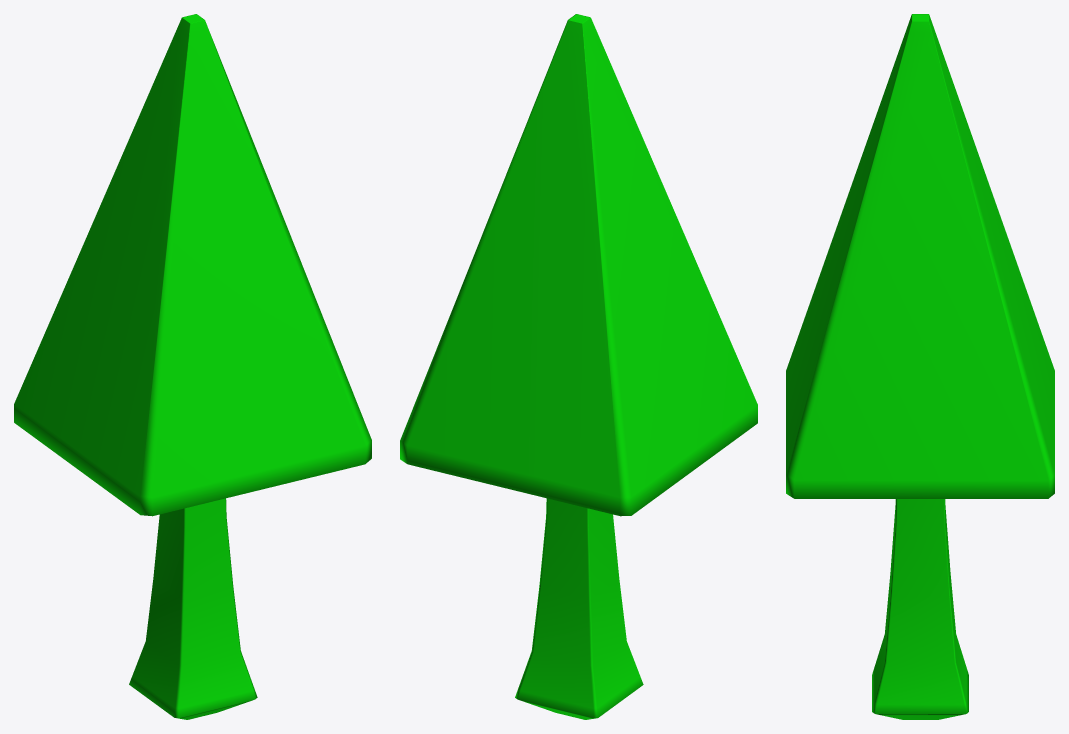
File: Compass Arrow.fbx
3 views of the same model, side by side, from view 1: azimuth 30°, elevation 25°; view 2: azimuth 150°, elevation 25°; view 3: azimuth 270°, elevation 25° (orthographic).
Parts seen in each view (by area): view 1: Compass_Arrow; view 2: Compass_Arrow; view 3: Compass_Arrow.
Boxes of the visible parts, box(x1,y1,x2,y2) form: Compass_Arrow: box(14, 14, 371, 719); Compass_Arrow: box(400, 14, 757, 719); Compass_Arrow: box(786, 14, 1054, 719).
Size of the model in its own units: 0.01 by 0.0285 by 0.01.
